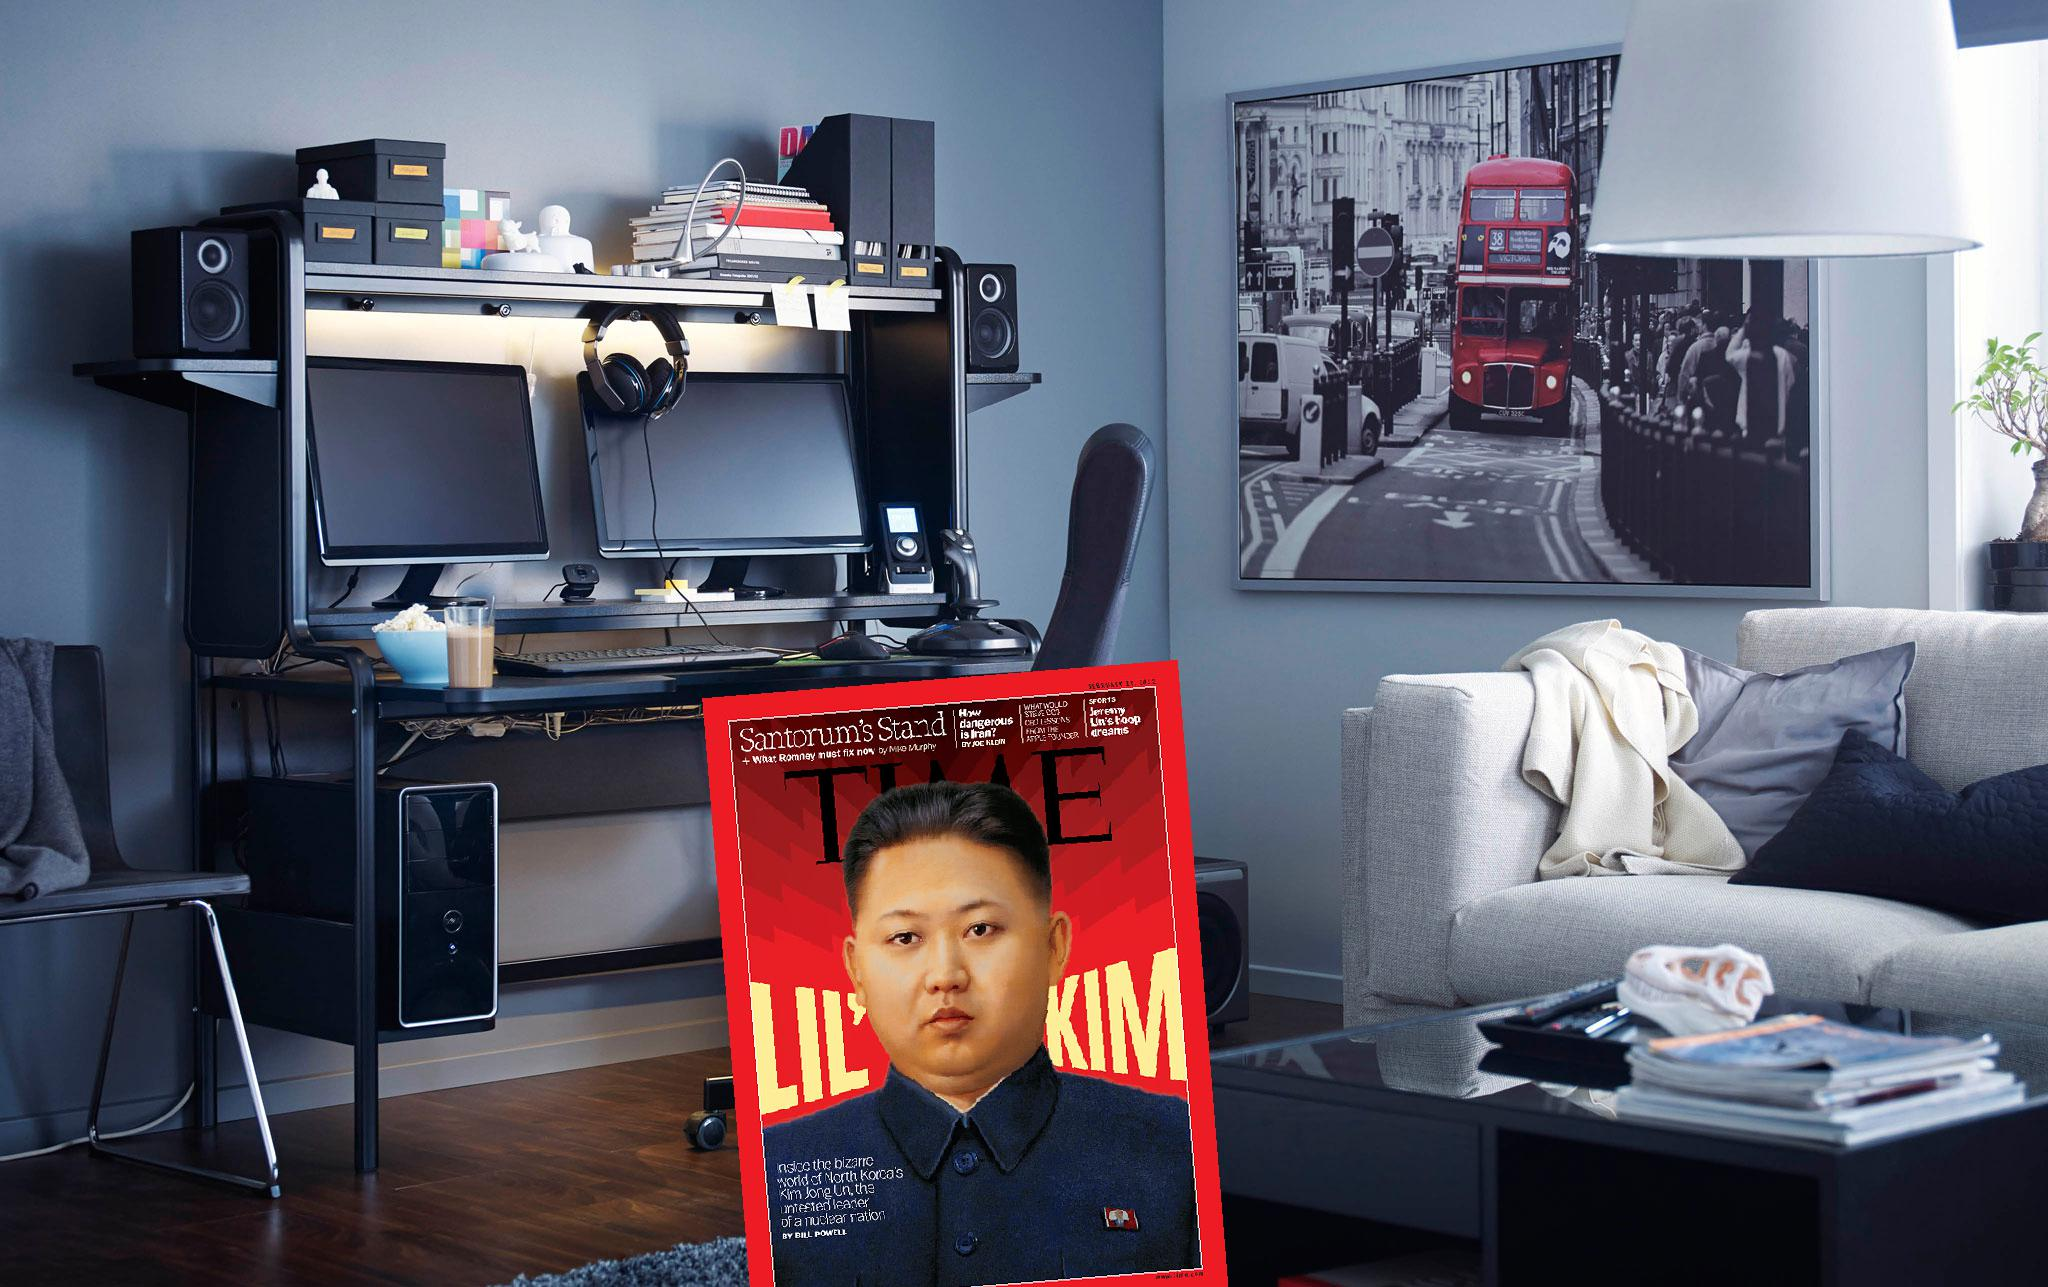times: (698, 658, 1223, 1287)
